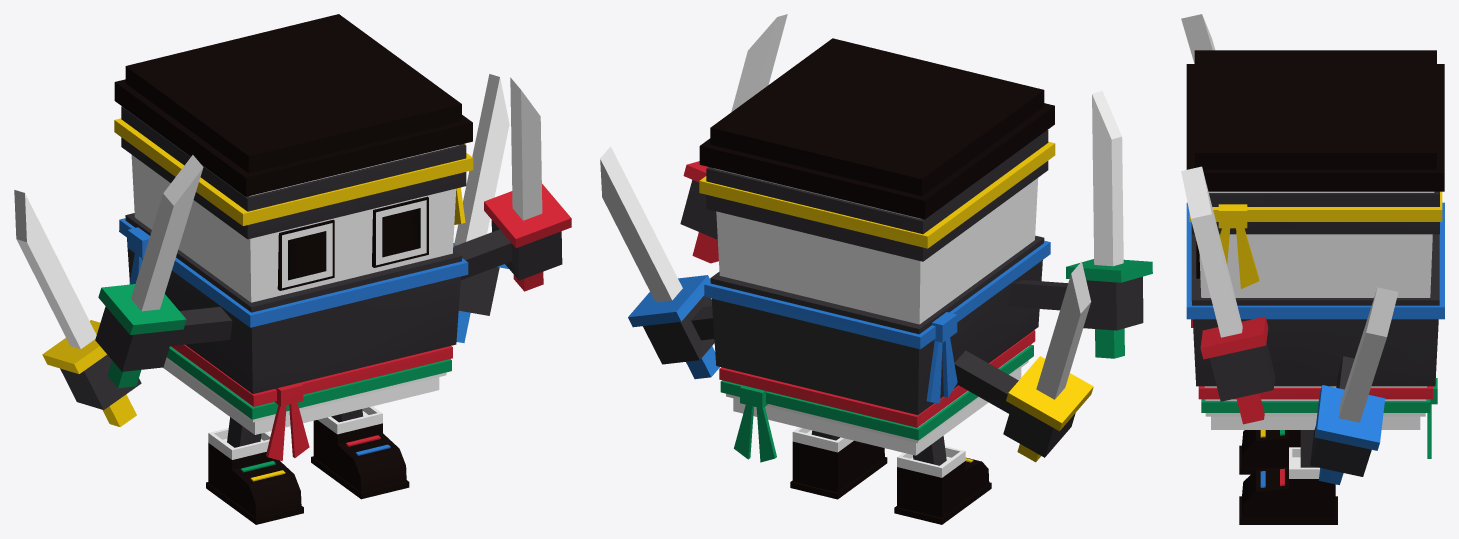
Rendered from Cappuccino_Assassino 1.fbx.
3 views of the same model, side by side, from view 1: azimuth 30°, elevation 25°; view 2: azimuth 150°, elevation 25°; view 3: azimuth 270°, elevation 25° (orthographic).
Visible parts, largest first — view 1: Cappuccino_Assassino.003; view 2: Cappuccino_Assassino.003; view 3: Cappuccino_Assassino.003.
Boxes of the visible parts, x1=… form: Cappuccino_Assassino.003: x1=14, y1=14, x2=571, y2=524; Cappuccino_Assassino.003: x1=600, y1=14, x2=1152, y2=524; Cappuccino_Assassino.003: x1=1181, y1=14, x2=1444, y2=524.
Size of the model in its own units: 1.47 by 1.18 by 0.7067.
